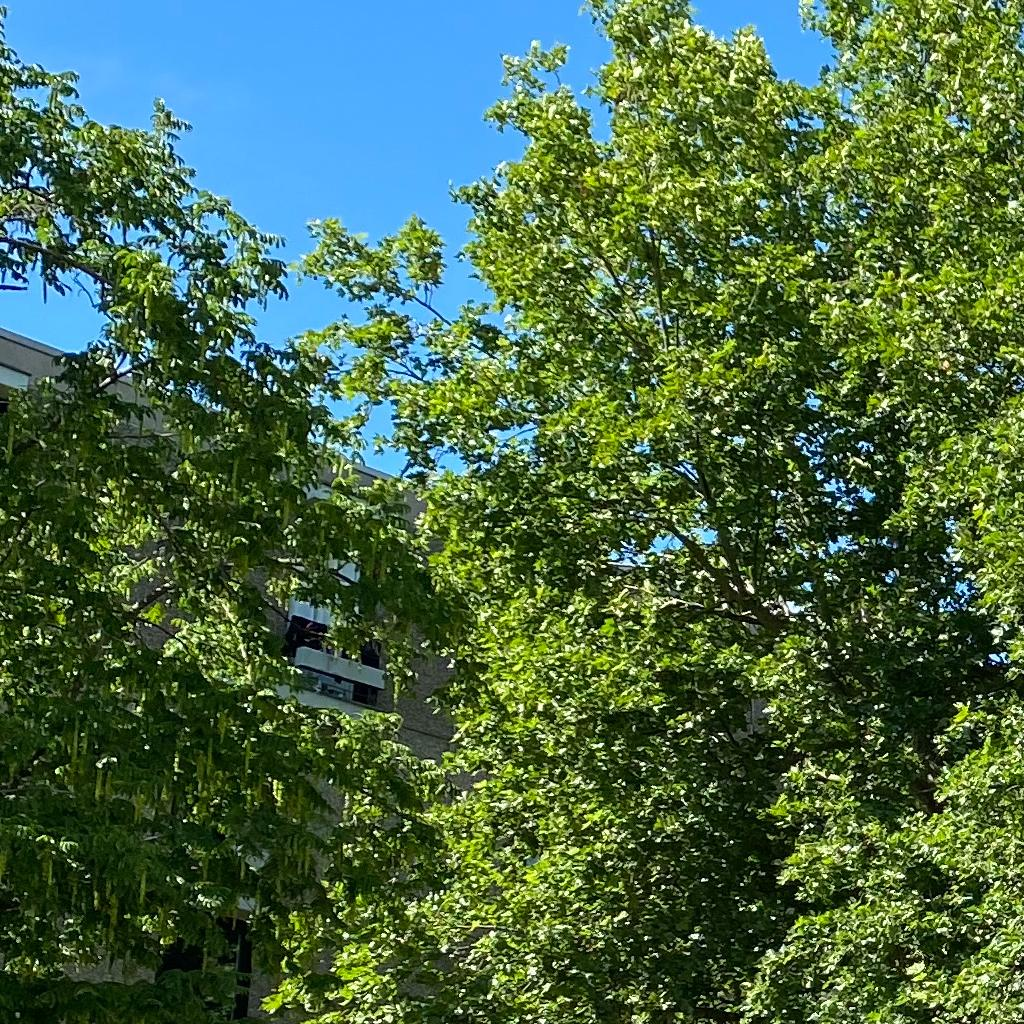tree: (260, 1, 1023, 1023), (1, 1, 478, 1024)
